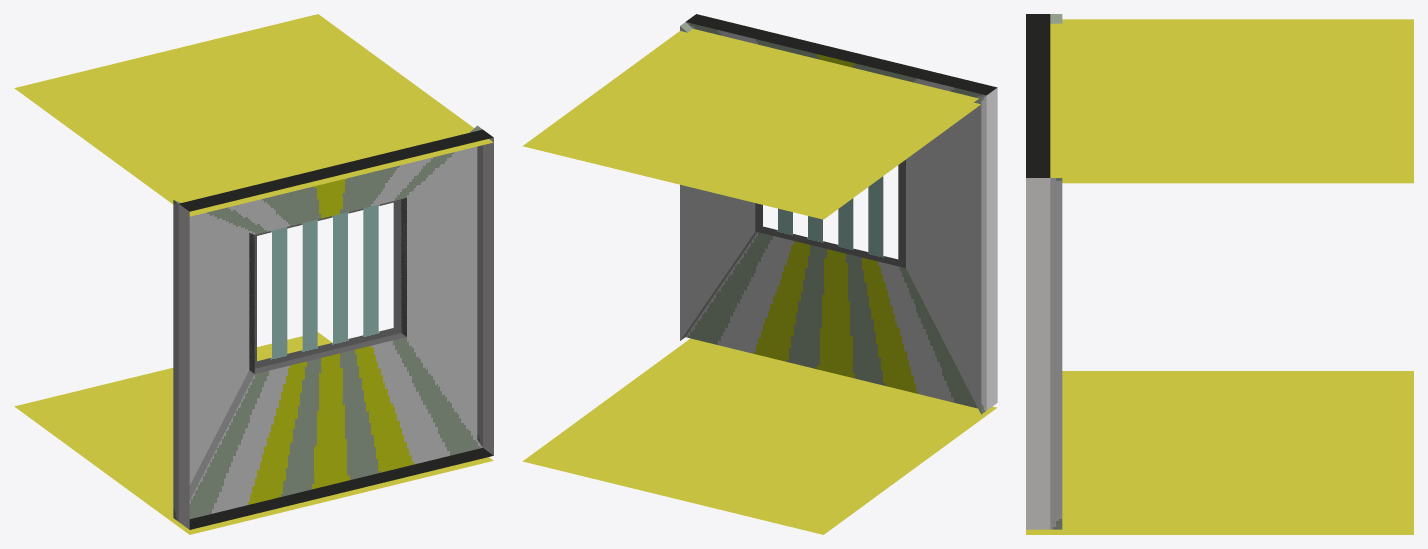
File: WholeYellowTile.gltf
3 renders of one model, left to right at view 1: azimuth 30°, elevation 25°; view 2: azimuth 150°, elevation 25°; view 3: azimuth 270°, elevation 25°, orthographic. The views are drawn at different scales.
Visible parts, largest first — view 1: yellowserverdoor, yellowceiling, yellowfloor; view 2: yellowserverdoor, yellowfloor, yellowceiling; view 3: yellowceiling, yellowfloor, yellowserverdoor.
Part boxes in pixels (<box>): yellowserverdoor: <box>173,125,493,529</box>; yellowceiling: <box>14,14,493,216</box>; yellowfloor: <box>14,332,493,534</box>; yellowserverdoor: <box>680,14,997,414</box>; yellowfloor: <box>522,338,996,534</box>; yellowceiling: <box>523,29,980,219</box>; yellowceiling: <box>1050,19,1413,183</box>; yellowfloor: <box>1026,371,1413,534</box>; yellowserverdoor: <box>1026,14,1062,529</box>.
Bounding box in the file's own units: 2 × 2.03 × 2.
2 materials, 2 textured.
